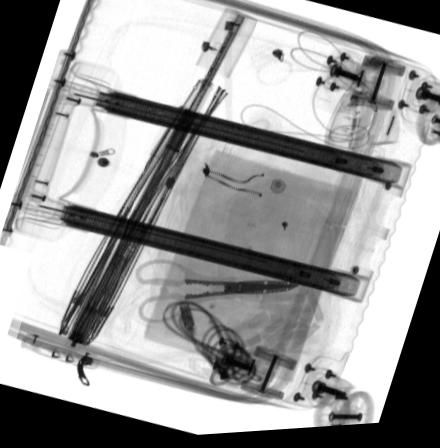Scissors: (133, 261, 300, 325)
